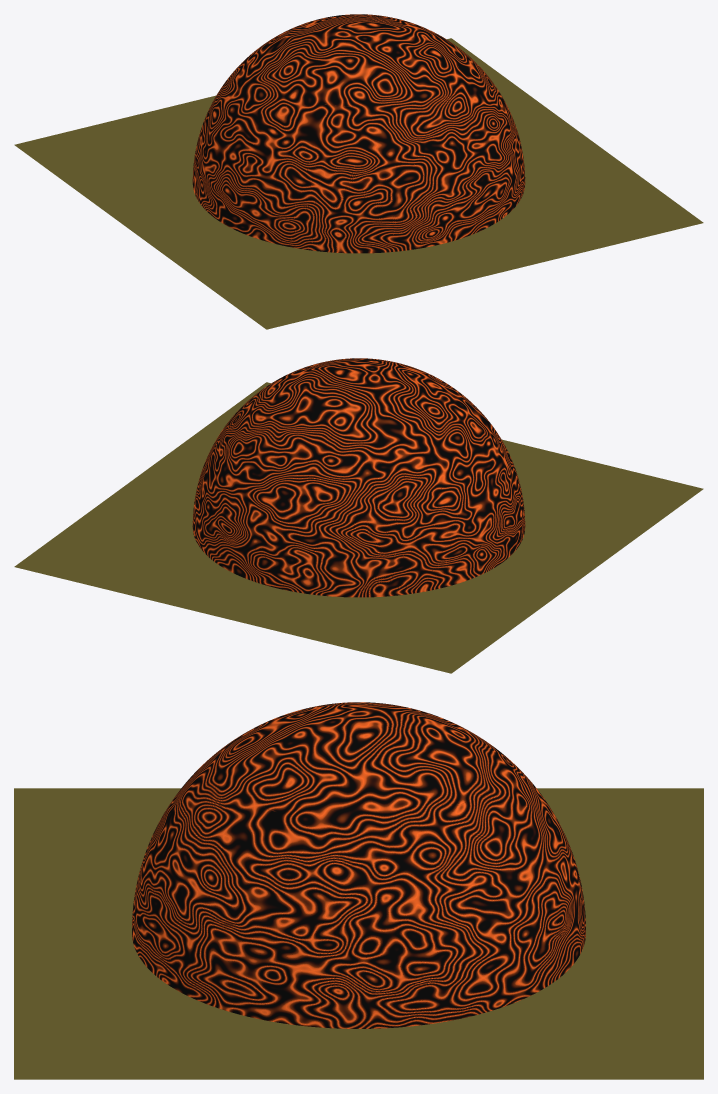
3 views of the same model, one above another, from view 1: azimuth 30°, elevation 25°; view 2: azimuth 150°, elevation 25°; view 3: azimuth 270°, elevation 25° (orthographic). The views are drawn at different scales.
Parts seen in each view (by area): view 1: Sphere, Plane; view 2: Sphere, Plane; view 3: Sphere, Plane.
Part boxes in pixels (x1,y1,x2,y2): Sphere: (192,14,525,253); Plane: (14,38,703,329); Sphere: (192,358,525,597); Plane: (14,382,703,673); Sphere: (132,702,585,1028); Plane: (14,788,703,1079).
Size of the model in its own units: 120 by 44.21 by 120.
Materials: 4 (2 with a texture image).
